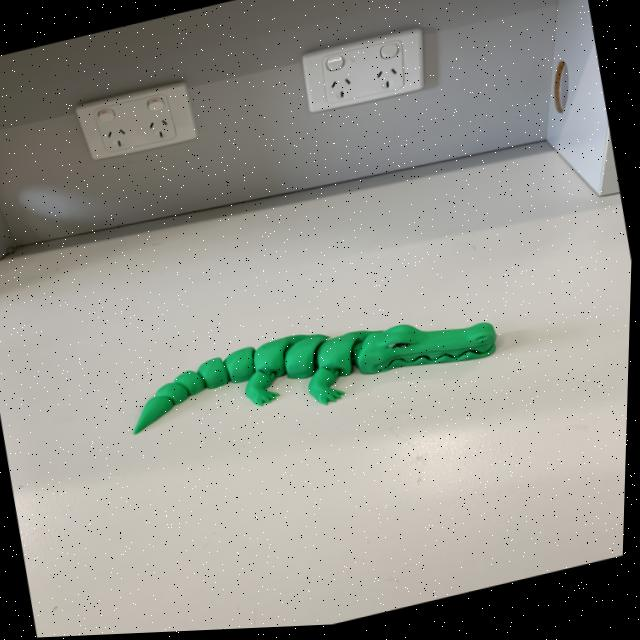crocodile: (89, 242, 535, 504)
